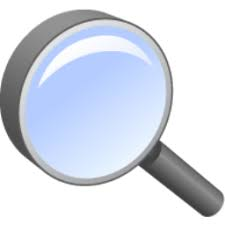searchIcon: (1, 8, 224, 216)
